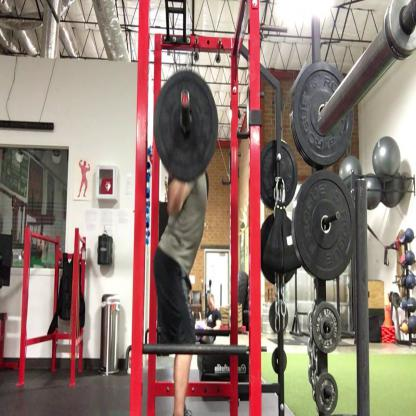Barbell: (150, 61, 223, 186), (292, 166, 360, 285)
